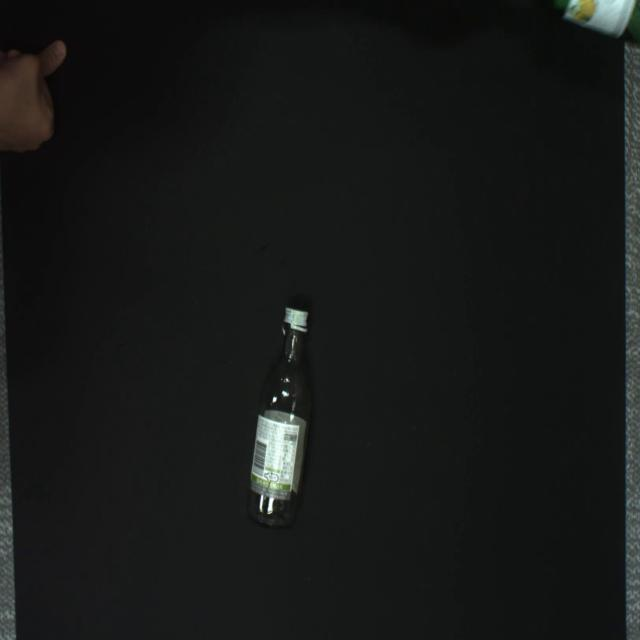soju-bottle: (245, 306, 311, 530)
